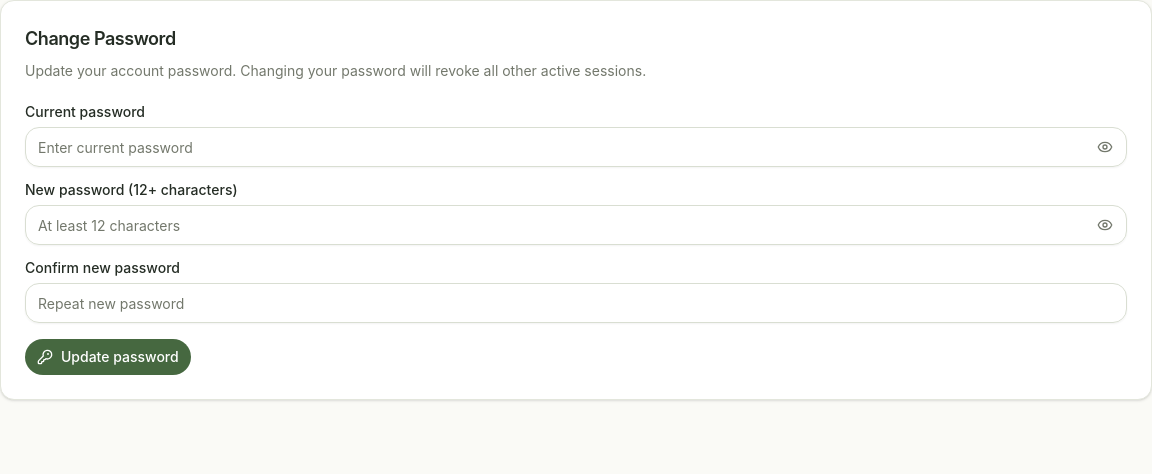
Scenario: ChangePasswordForm › validates password length and confirmation match
Type "old-password-123" into the password field labelled "Current password" at x=576, y=147, box [25,127,1127,167]
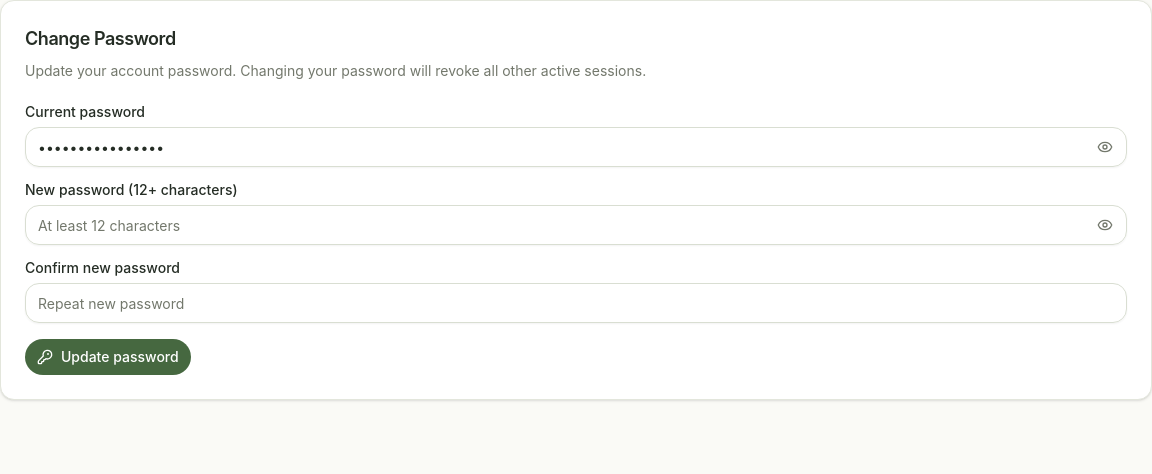
Type "short" into the password field labelled "New password (12+ characters)" at x=576, y=225, box [25,205,1127,245]
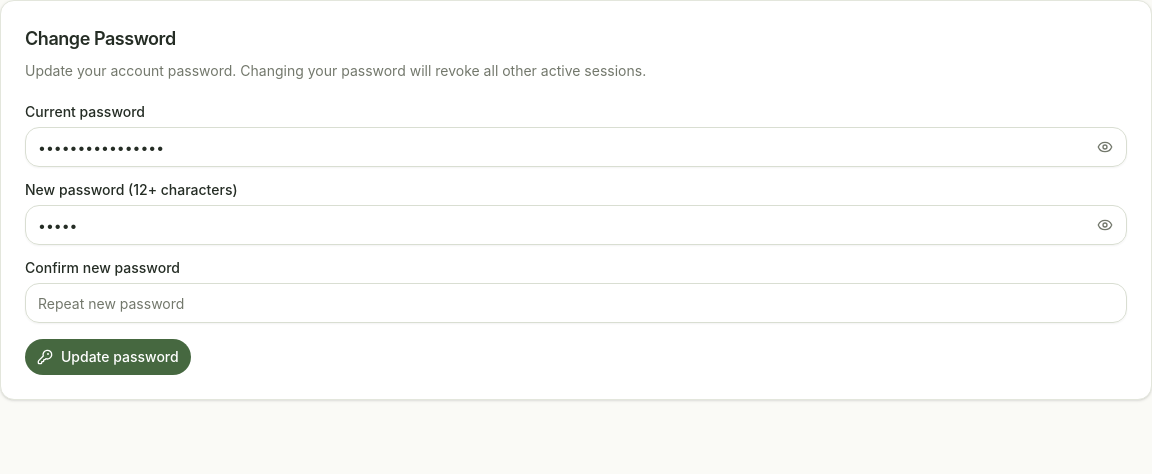
Type "different-password-123" into the password field labelled "Confirm new password" at x=576, y=303, box [25,283,1127,323]
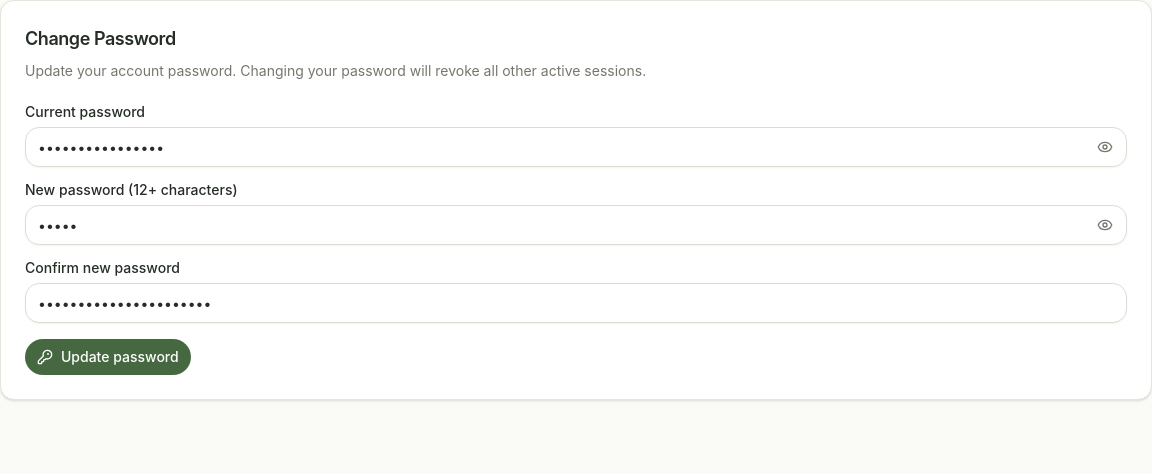
Click the button "Update password" at x=108, y=357, box [25,339,191,375]
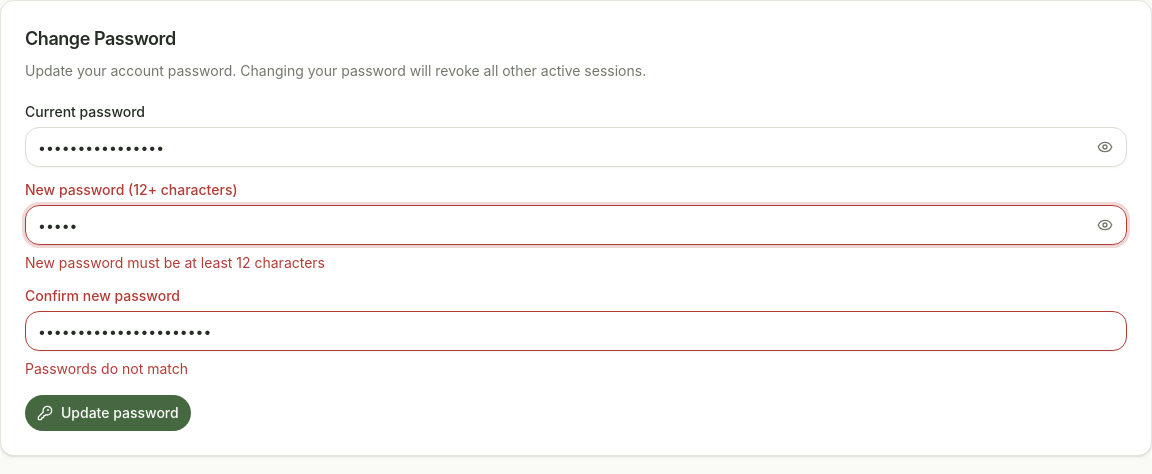
Expected: the text "New password must be at least 12 characters" is shown, [25,254,325,271]
